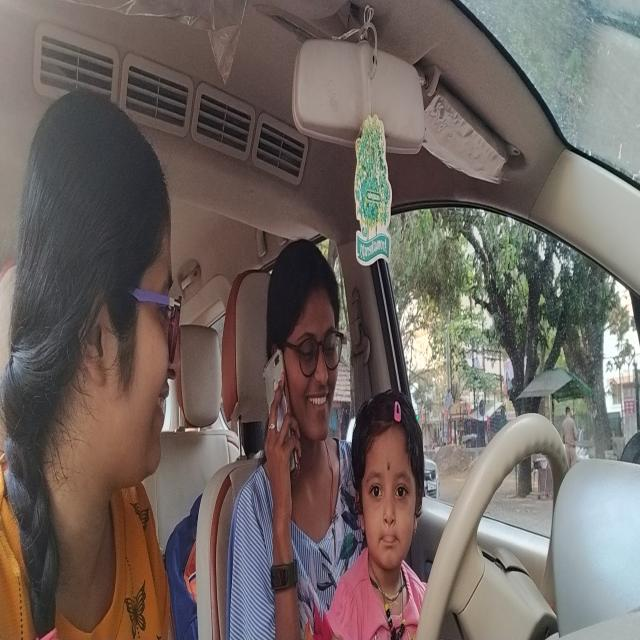child: (349, 392, 428, 575)
mobile: (258, 350, 302, 483)
person: (20, 78, 190, 496), (264, 235, 342, 466)
